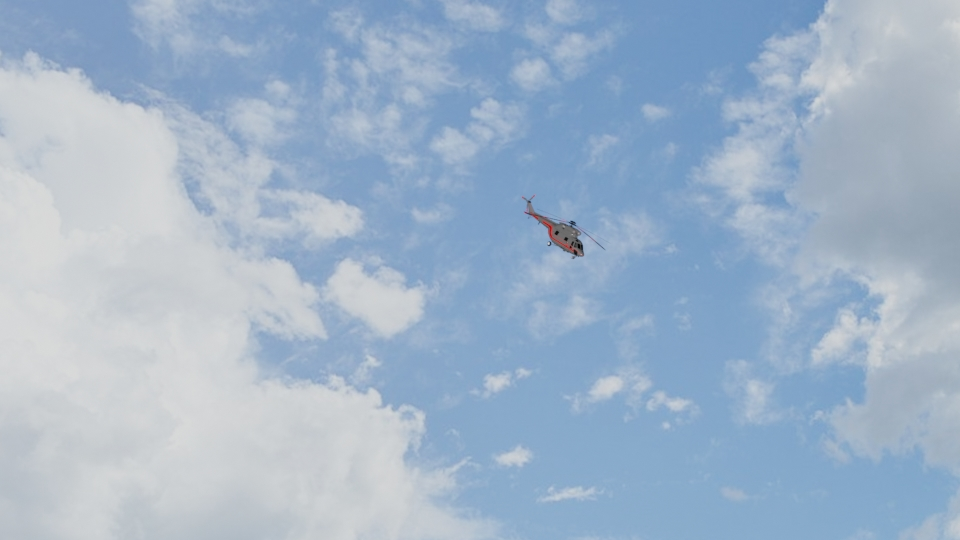heli: (520, 192, 604, 260)
